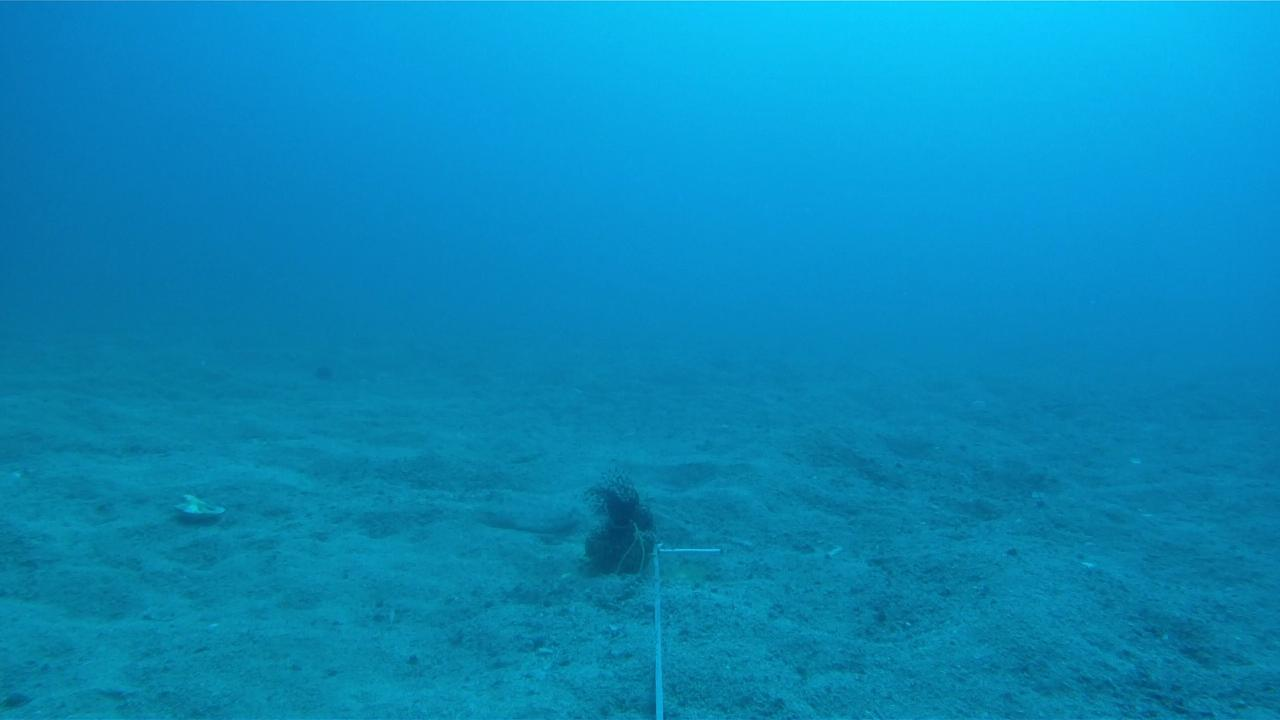bothus: (477, 498, 586, 532), (170, 486, 230, 526)
